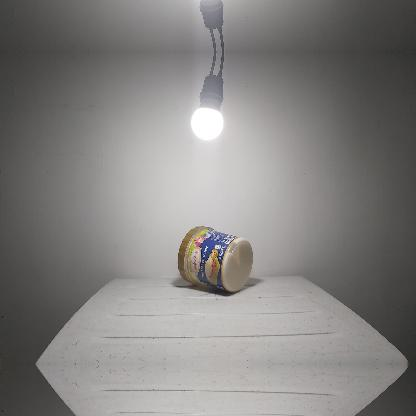Lady-s-Choice: (178, 224, 252, 292)
